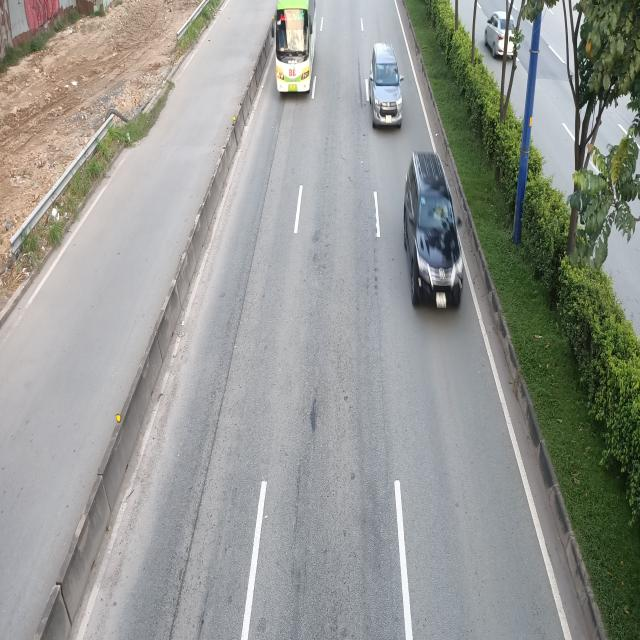car: (403, 150, 464, 310), (367, 41, 401, 129)
coach: (273, 2, 317, 97)
